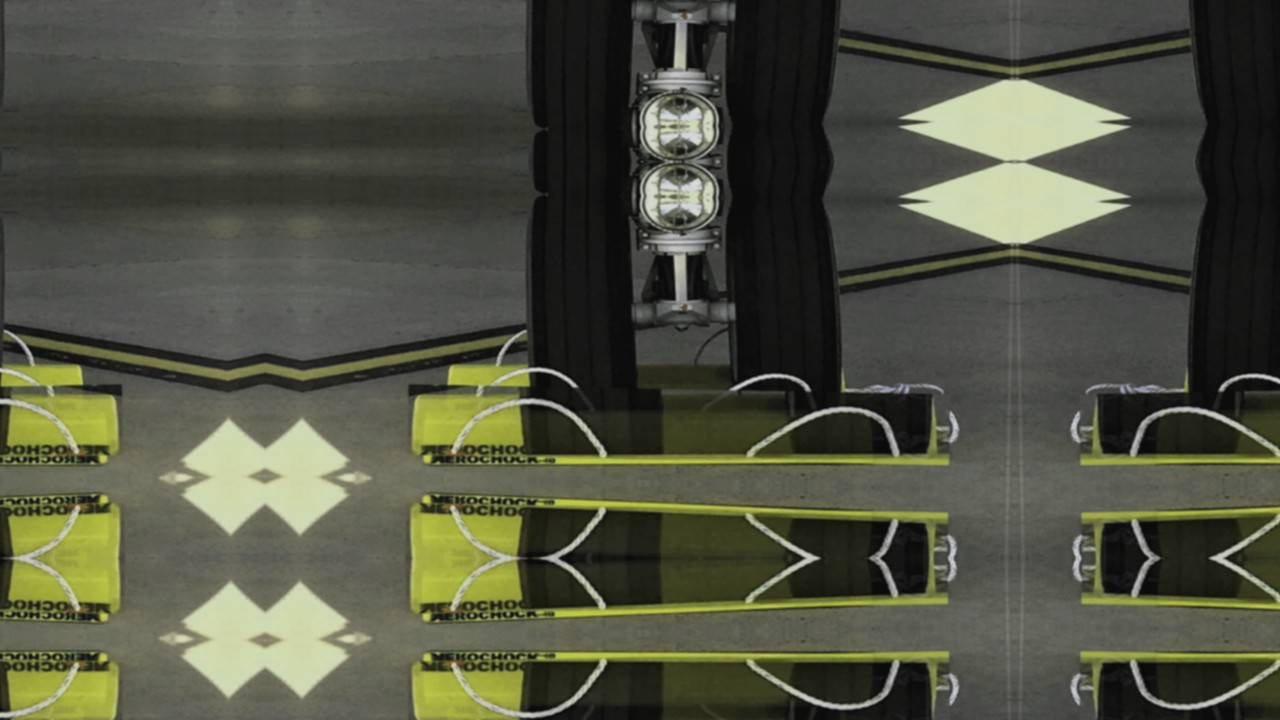chock: (407, 384, 950, 465), (407, 652, 950, 720), (418, 399, 878, 475), (418, 642, 878, 718), (405, 503, 948, 559), (405, 558, 948, 614), (416, 492, 876, 558), (416, 559, 876, 625), (443, 357, 856, 418), (1080, 384, 1280, 465), (1080, 652, 1280, 720), (1082, 503, 1280, 559), (1082, 558, 1280, 614), (0, 384, 123, 465), (1152, 399, 1280, 475), (1152, 642, 1280, 718), (443, 699, 856, 720), (0, 399, 112, 475), (0, 642, 112, 718), (0, 652, 123, 720), (1154, 492, 1280, 558), (1154, 559, 1280, 625), (0, 492, 114, 558), (0, 559, 114, 625), (0, 503, 125, 559), (0, 558, 125, 614), (1174, 357, 1280, 418), (0, 357, 87, 418)
wheel: (721, 198, 843, 412), (521, 195, 636, 414), (1187, 198, 1280, 412), (721, 0, 843, 125), (521, 0, 636, 128), (1187, 0, 1280, 125)
